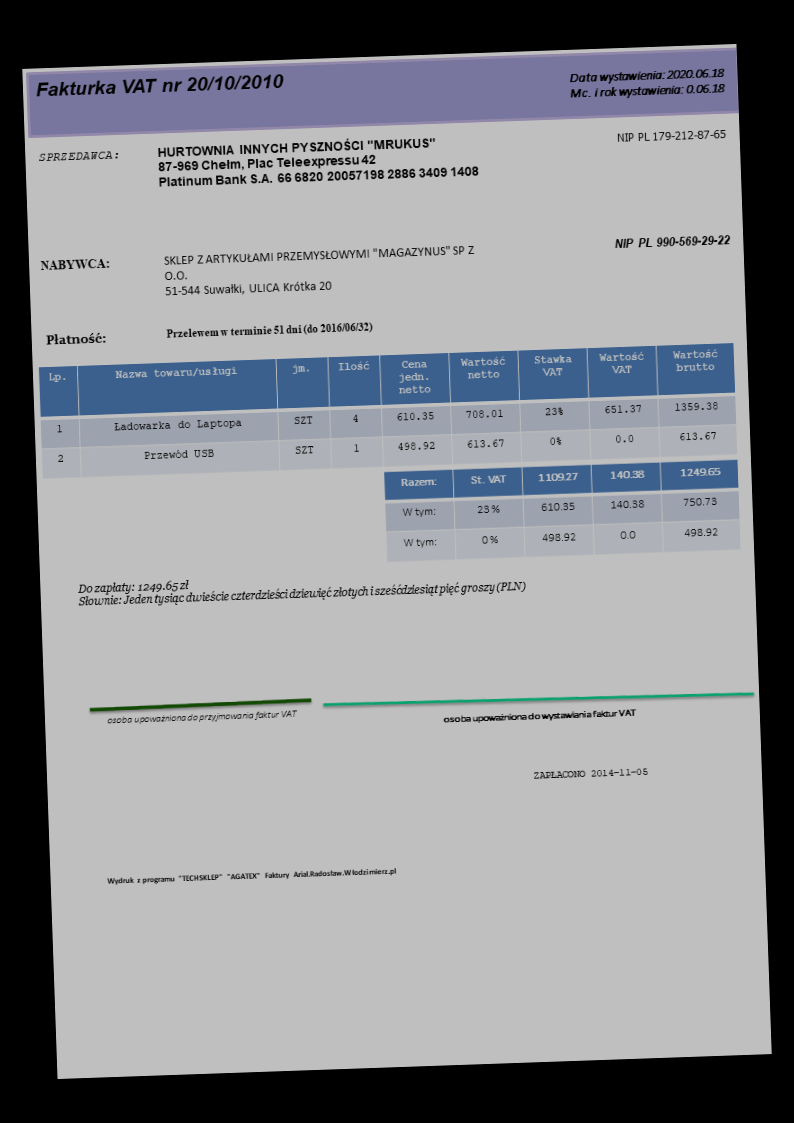Table: (36, 340, 738, 481), (382, 457, 742, 563)
TextBox: (74, 565, 529, 611), (155, 131, 482, 192), (163, 242, 476, 299), (33, 71, 286, 101), (104, 864, 401, 887), (565, 64, 731, 100), (164, 319, 374, 341), (104, 707, 299, 728), (439, 706, 638, 726), (613, 231, 731, 252), (612, 125, 726, 146), (531, 765, 649, 781), (34, 147, 121, 164), (38, 255, 111, 273), (45, 329, 108, 347)
